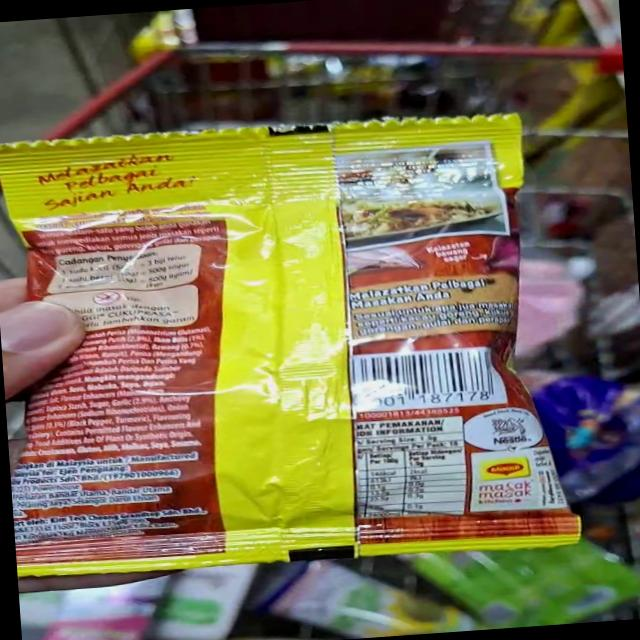Maggi Cukup Rasa: (0, 96, 600, 594)
